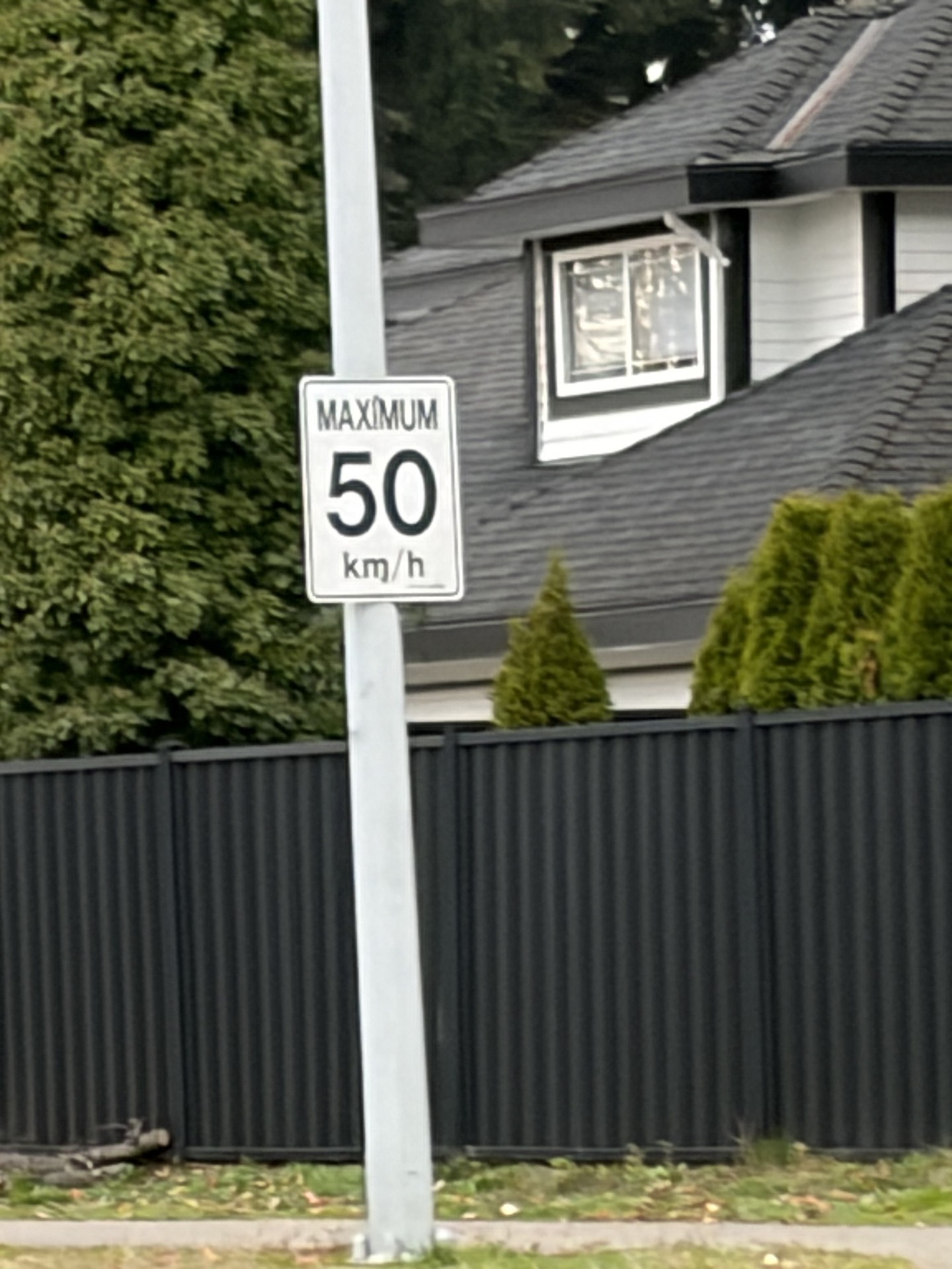speed_limit: (256, 334, 529, 677)
